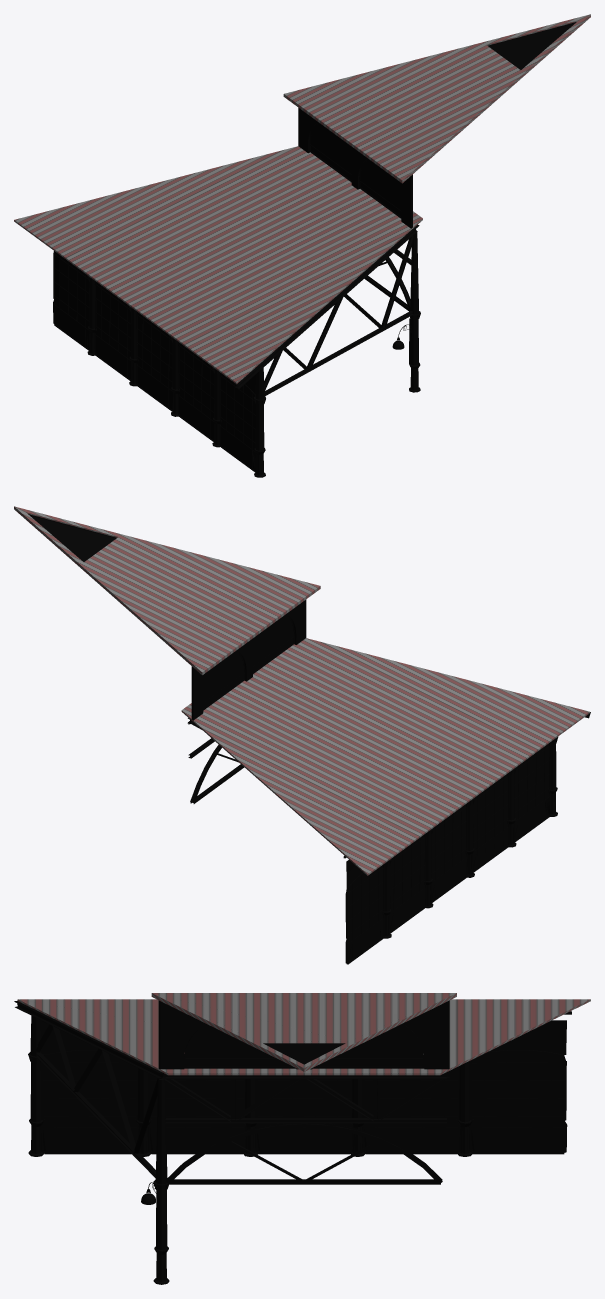
File: spicchio strutturaa.fbx
3 renders of one model, top to bottom at view 1: azimuth 30°, elevation 25°; view 2: azimuth 150°, elevation 25°; view 3: azimuth 270°, elevation 25°, orthographic. The views are drawn at different scales.
Parts seen in each view (by area): view 1: copertura_2, copertura1, vetrate, stutture, serr_2, pannelli, Poligono_1, vetrata3, vetrata5, vetrata2; view 2: copertura_2, copertura1, vetrate, serr_2, pannelli, stutture, Poligono_1, vetrata3, vetrata5, vetrata2; view 3: vetrate, stutture, copertura_2, copertura1, pannelli, serr_2, Poligono_1, vetrata5, vetrata2, vetrata3, vetrata1, vetrata4 (+4 smaller).
Boxes of the visible parts, box(x1,y1,x2,y2) form: copertura_2: box(14, 146, 422, 383); copertura1: box(283, 14, 590, 183); vetrate: box(54, 252, 255, 470); stutture: box(87, 224, 420, 477); serr_2: box(53, 251, 255, 472); pannelli: box(54, 304, 256, 470); Poligono_1: box(298, 108, 412, 228); vetrata3: box(489, 23, 575, 69); vetrata5: box(310, 123, 351, 174); vetrata2: box(360, 160, 401, 210); copertura_2: box(181, 638, 589, 875); copertura1: box(14, 506, 320, 675); vetrate: box(346, 743, 549, 943); serr_2: box(345, 743, 550, 964); pannelli: box(346, 796, 549, 962); stutture: box(187, 712, 590, 938); Poligono_1: box(191, 599, 306, 720); vetrata3: box(30, 515, 115, 561); vetrata5: box(203, 652, 244, 702); vetrata2: box(253, 615, 293, 665); vetrate: box(42, 1030, 566, 1152); stutture: box(14, 1000, 571, 1284); copertura_2: box(17, 999, 590, 1075); copertura1: box(151, 993, 456, 1071); pannelli: box(41, 1020, 566, 1152); serr_2: box(41, 1033, 567, 1154); Poligono_1: box(158, 1000, 449, 1069); vetrata5: box(332, 1024, 422, 1058); vetrata2: box(185, 1024, 275, 1058); vetrata3: box(264, 1044, 343, 1064); vetrata1: box(186, 1060, 292, 1066); vetrata4: box(315, 1060, 421, 1066).
Size of the model in its own units: 3534 by 2016 by 2936.
7 materials, 1 textured.
